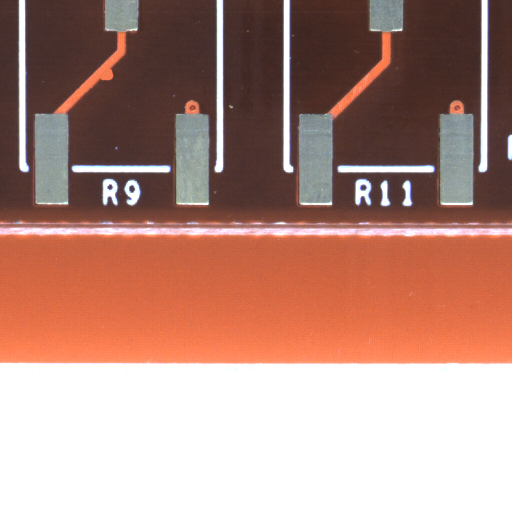Spur: (105, 74, 120, 86)
